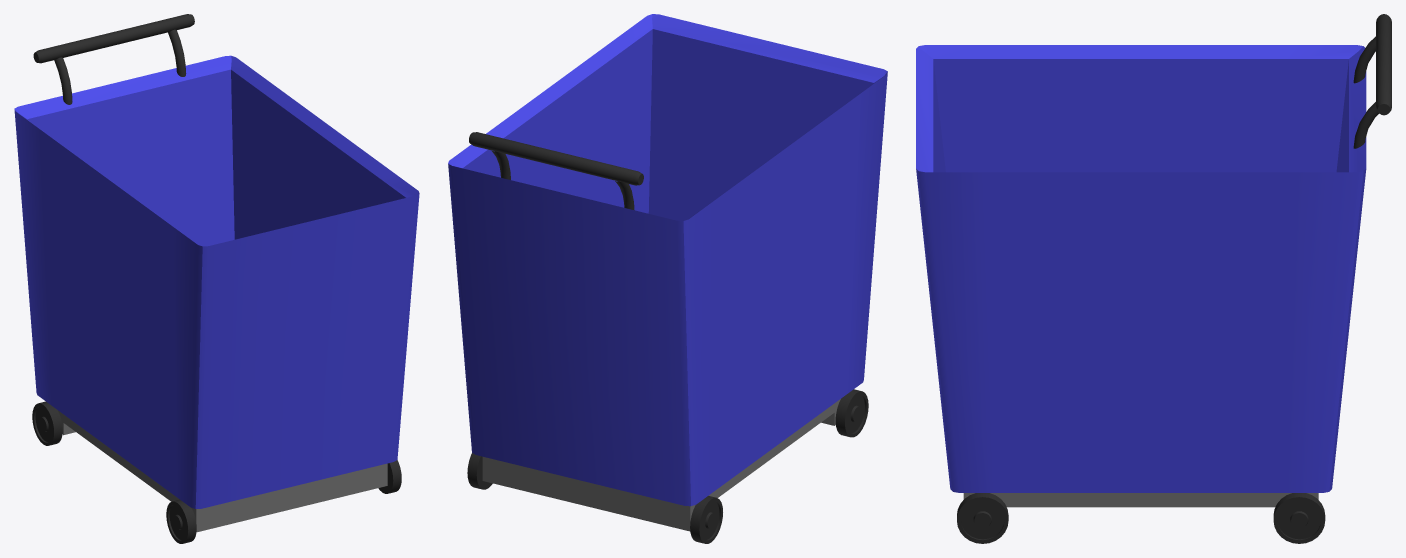
The model's file is cart.fbx.
3 renders of one model, left to right at view 1: azimuth 30°, elevation 25°; view 2: azimuth 150°, elevation 25°; view 3: azimuth 270°, elevation 25°, orthographic. The views are drawn at different scales.
Parts seen in each view (by area): view 1: Cart; view 2: Cart; view 3: Cart.
Part boxes in pixels (x1,y1,x2,y2): Cart: [14, 14, 419, 543]; Cart: [448, 14, 887, 543]; Cart: [916, 14, 1391, 543].
Size of the model in its own units: 63.11 by 99.7 by 98.2.
